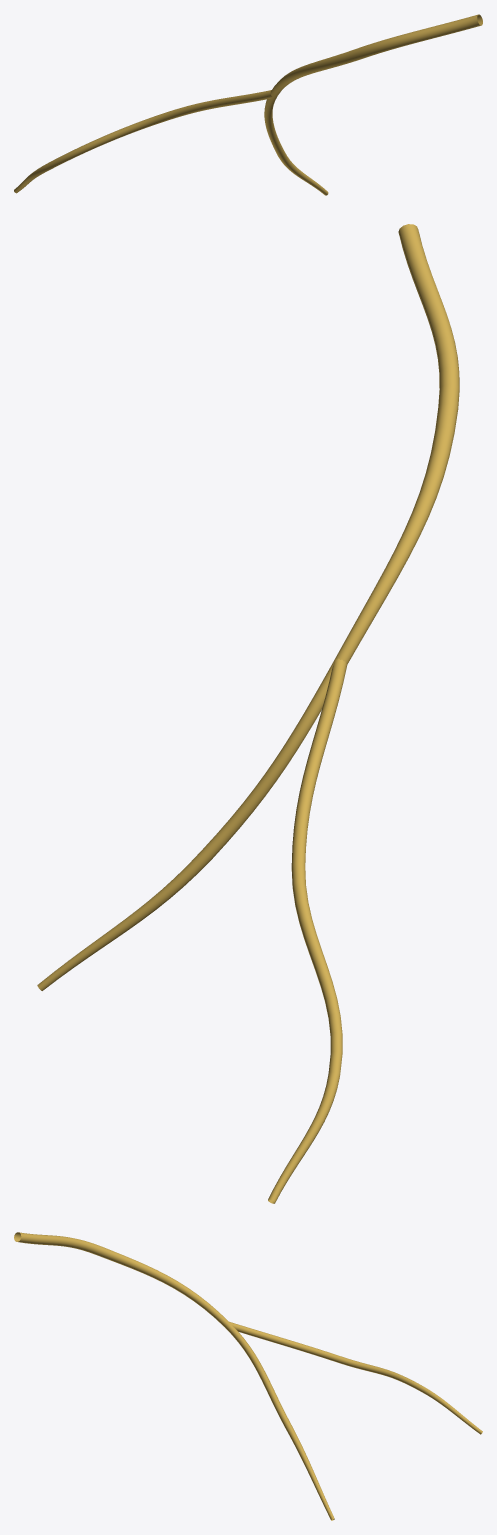
3 renders of one model, top to bottom at view 1: azimuth 30°, elevation 25°; view 2: azimuth 150°, elevation 25°; view 3: azimuth 270°, elevation 25°, orthographic. The views are drawn at different scales.
Visible parts, largest first — view 1: 右侧胸内侧神经; view 2: 右侧胸内侧神经; view 3: 右侧胸内侧神经.
Boxes of the visible parts, x1,y1,x2,y2 form: 右侧胸内侧神经: (14,14,482,195); 右侧胸内侧神经: (37,224,459,1203); 右侧胸内侧神经: (14,1232,482,1520).
Bounding box in the file's own units: 0.0671 × 0.0909 × 0.1373.
